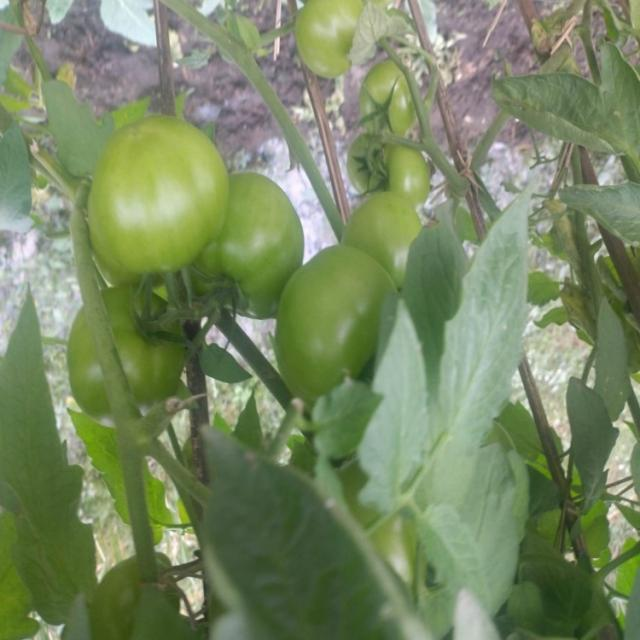tomato: (90, 113, 241, 271), (276, 246, 402, 388), (204, 164, 307, 311), (73, 288, 189, 418), (288, 1, 369, 77), (353, 191, 430, 258), (356, 66, 418, 148), (377, 148, 439, 207), (341, 135, 386, 199)
